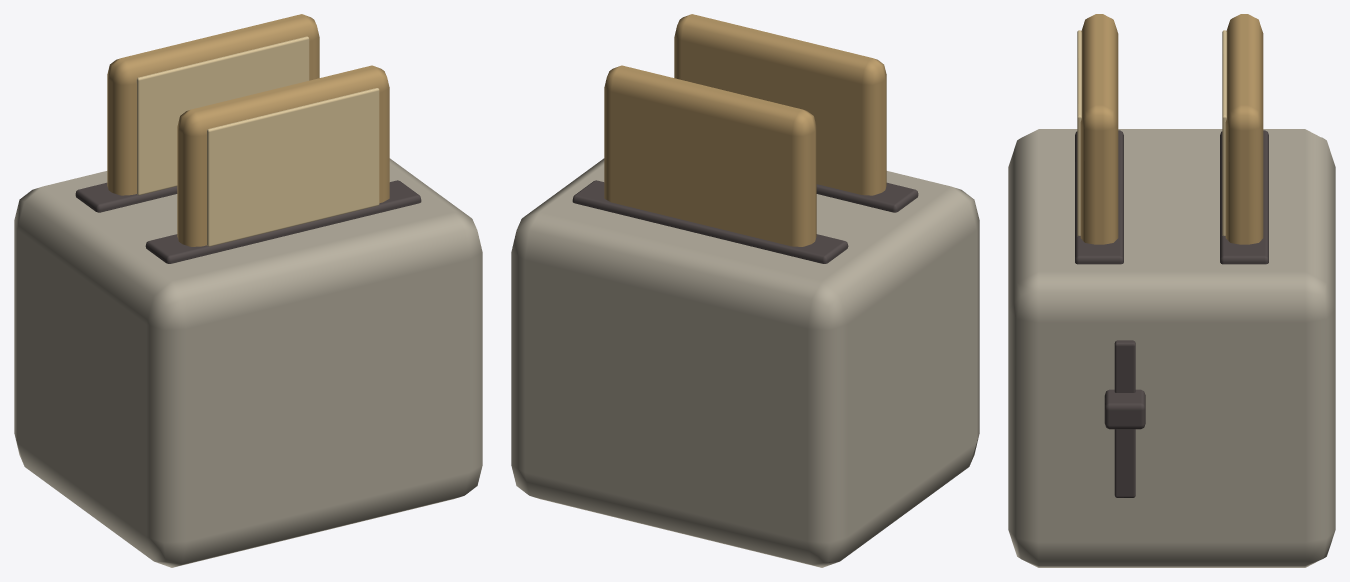
The model's file is toaster.glb.
The picture shows the model from 3 angles, left to right: view 1: azimuth 30°, elevation 25°; view 2: azimuth 150°, elevation 25°; view 3: azimuth 270°, elevation 25°; orthographic projection. The views are drawn at different scales.
Visible parts, largest first — view 1: toaster-shell, bread-face-0-062, bread-face--0-062, toast-0-062, toast--0-062, recessed-slot-0-062, recessed-slot--0-062; view 2: toaster-shell, toast--0-062, toast-0-062, recessed-slot--0-062, recessed-slot-0-062; view 3: toaster-shell, toast--0-062, toast-0-062, lever-slot, recessed-slot-0-062, recessed-slot--0-062, lever, bread-face--0-062, bread-face-0-062.
Boxes of the visible parts, x1,y1,x2,y2 form: toaster-shell: [14, 158, 482, 567]; bread-face-0-062: [207, 88, 379, 246]; bread-face--0-062: [136, 36, 309, 195]; toast-0-062: [177, 65, 389, 246]; toast--0-062: [107, 14, 319, 195]; recessed-slot-0-062: [145, 180, 421, 263]; recessed-slot--0-062: [75, 182, 177, 212]; toaster-shell: [511, 158, 979, 567]; toast--0-062: [604, 65, 816, 246]; toast-0-062: [674, 14, 886, 195]; recessed-slot--0-062: [572, 180, 848, 263]; recessed-slot-0-062: [816, 182, 918, 212]; toaster-shell: [1008, 129, 1335, 567]; toast--0-062: [1225, 14, 1263, 244]; toast-0-062: [1080, 14, 1118, 244]; lever-slot: [1114, 340, 1135, 497]; recessed-slot-0-062: [1075, 130, 1123, 264]; recessed-slot--0-062: [1220, 130, 1268, 264]; lever: [1104, 389, 1145, 429]; bread-face--0-062: [1222, 30, 1226, 236]; bread-face-0-062: [1077, 30, 1081, 236].
Bounding box in the file's own units: 0.3705 × 0.4125 × 0.28.
